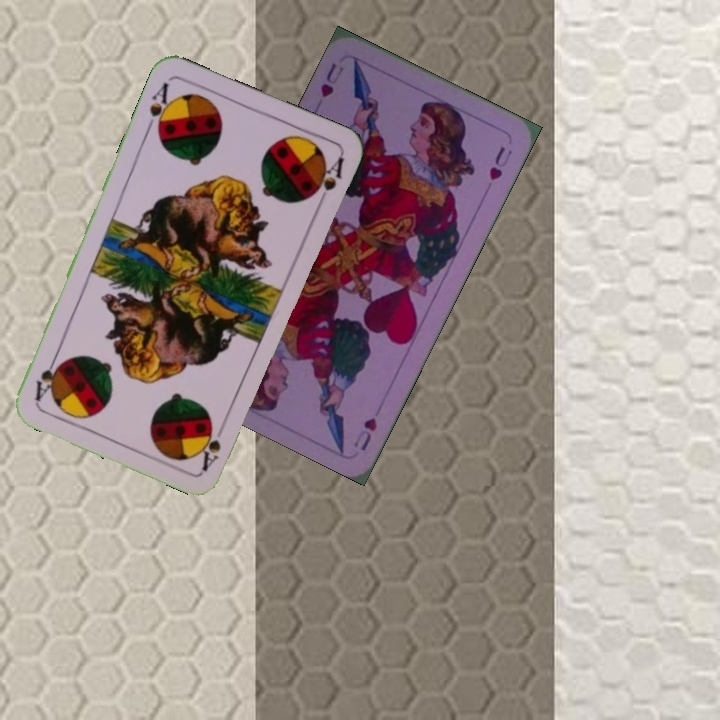HU: (316, 58, 346, 100), (349, 414, 380, 454)
SA: (142, 78, 176, 137), (198, 423, 224, 473)
